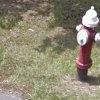Hydrant: (72, 0, 100, 80)
